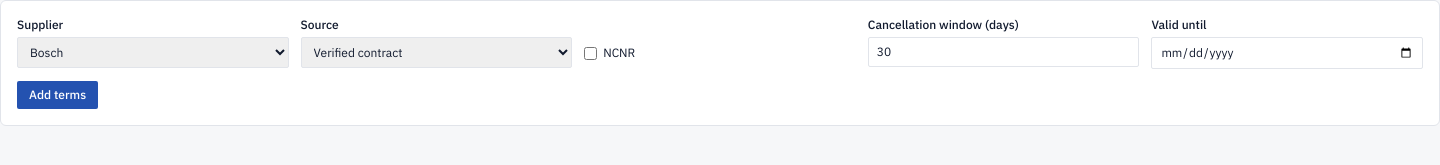
SupplierTermsForm › shows a clear error message instead of silence when saving fails
Click the button "Add terms". click: {"x": 58, "y": 95}
box: [17,81,98,109]
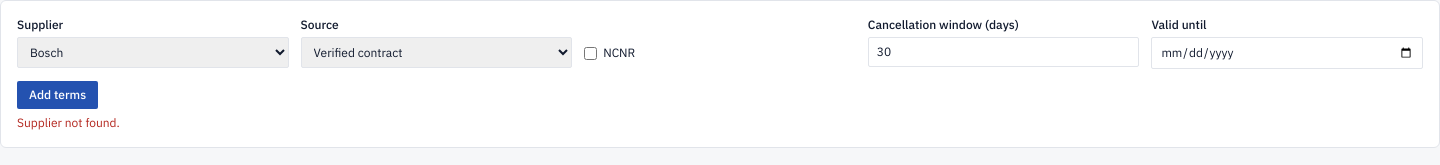
Check: the text "Supplier not found." is shown, box [17,115,120,130]
